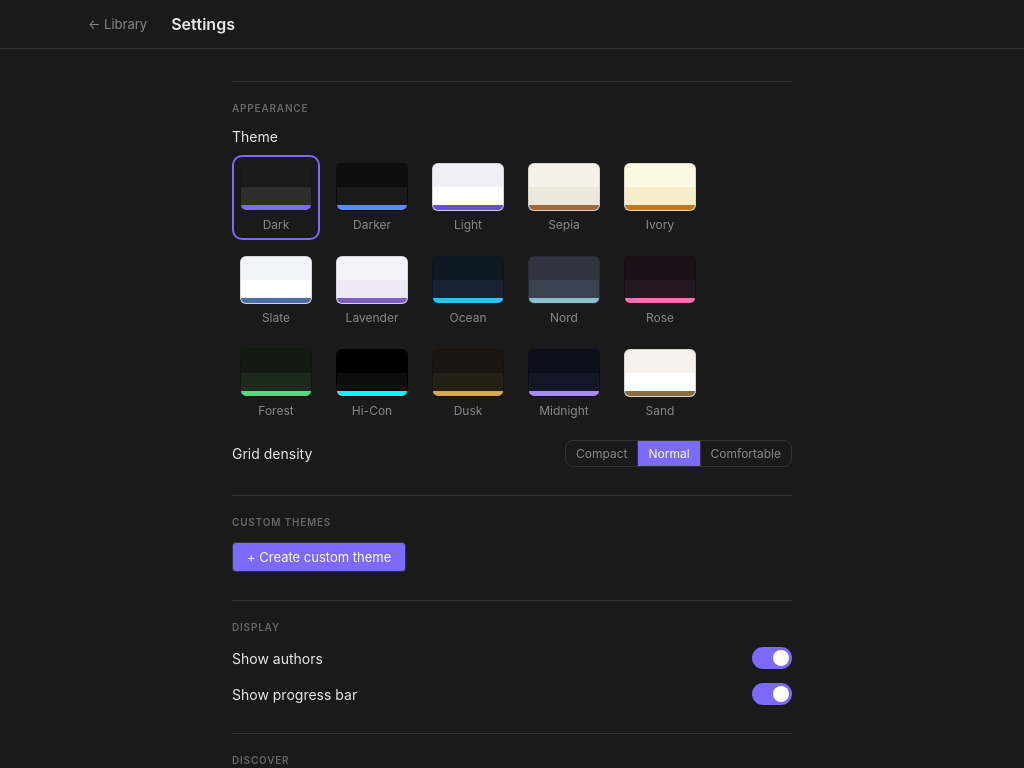
Test case: SettingsView — custom theme editor › disables Save until the name and hex fields are valid
Click the button "+ Create custom theme".
click(319, 557)  # box [232,542,406,572]
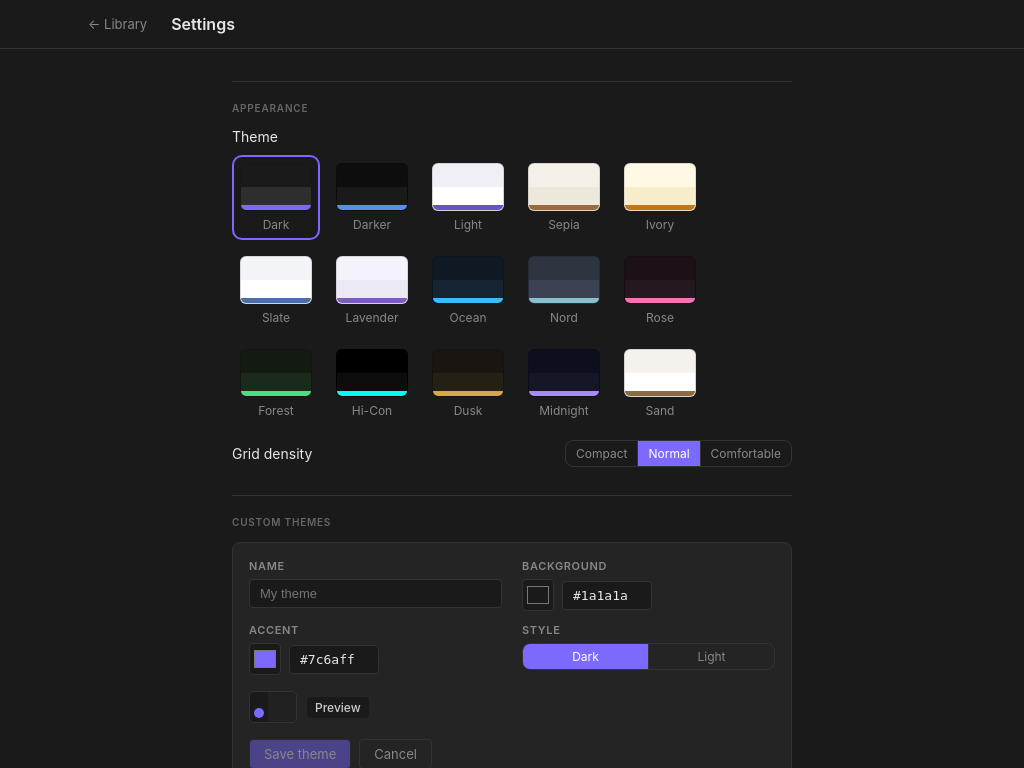
Result: the button "Save theme" is disabled at [249,739,351,767]
Type "Sunset" into the field with placeholder "My theme".
click(376, 594); type("Sunset")  # box [249,579,502,608]
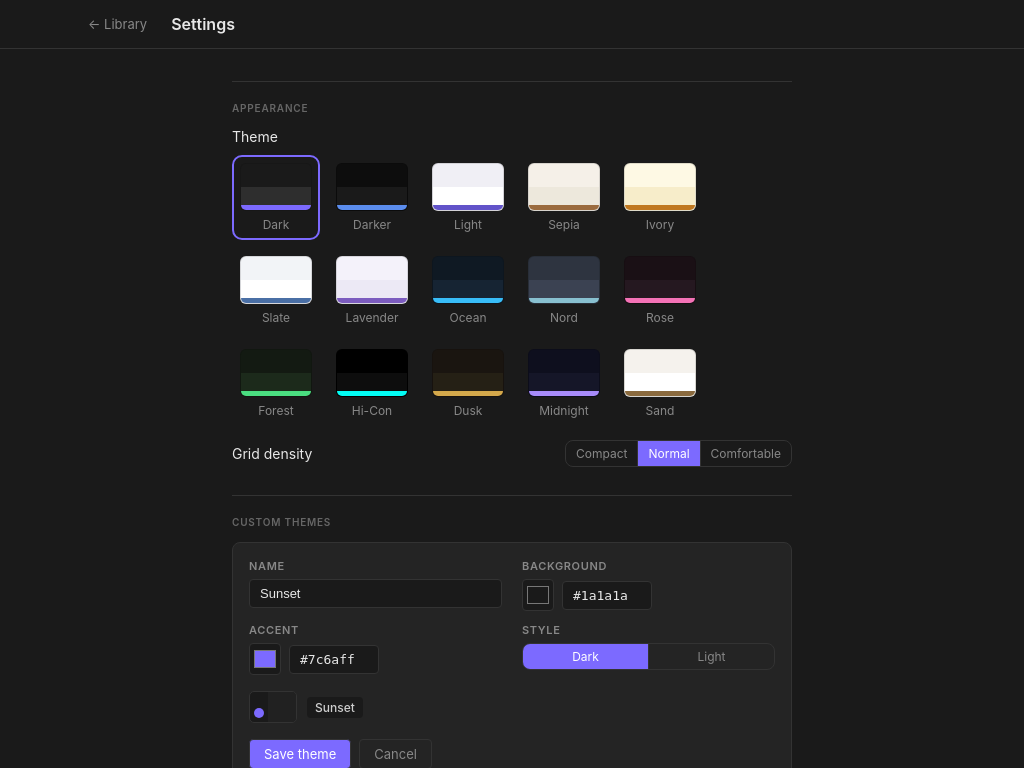
Result: the button "Save theme" is enabled at [249,739,351,767]
Type "not-hex" into the field with placeholder "#1a1a1a" below "Background".
click(607, 595); type("not-hex")  # box [562,580,652,610]
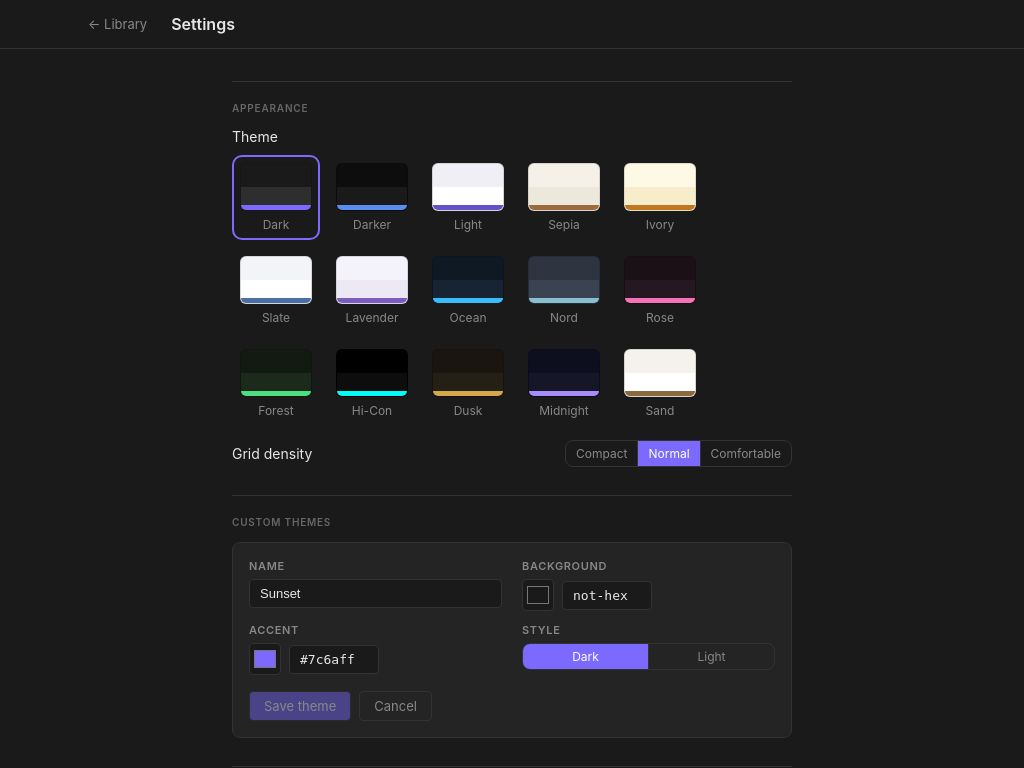
Result: the button "Save theme" is disabled at [249,691,351,721]
